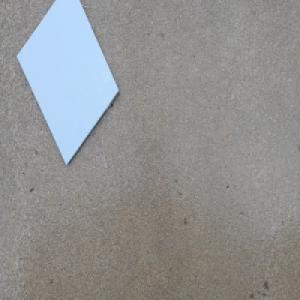PaintChip: (15, 0, 120, 167)
